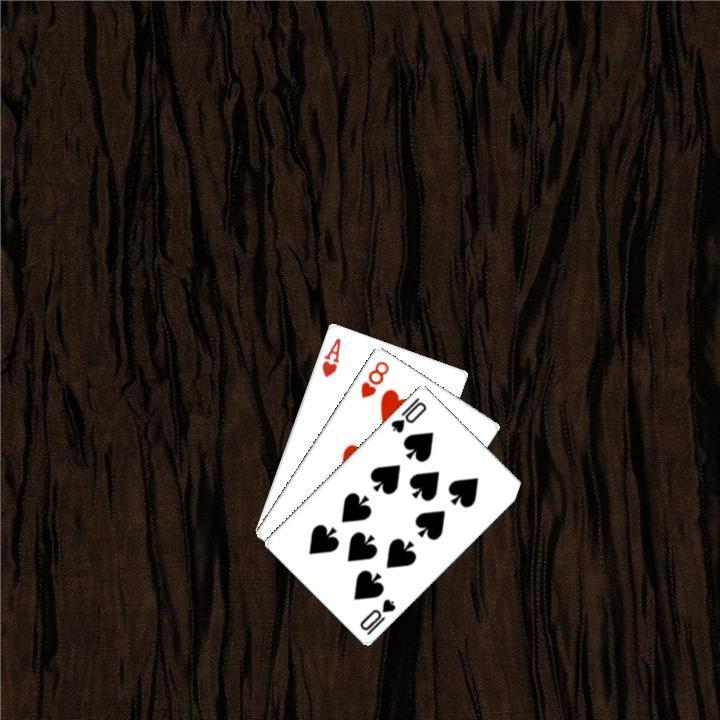10: (386, 392, 429, 435), (355, 594, 398, 637)
8: (356, 356, 391, 400)
A: (317, 333, 343, 379)
